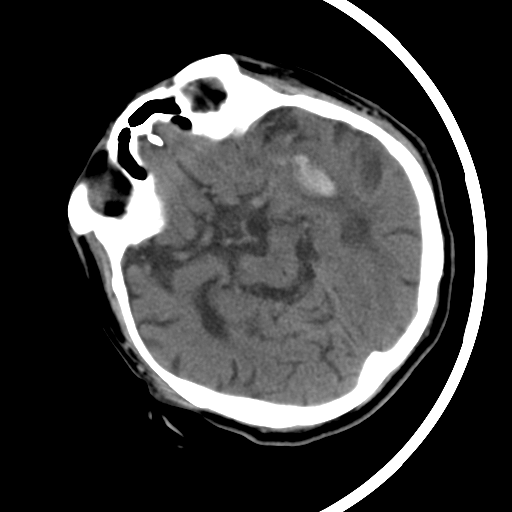a: (278, 145, 358, 214)
